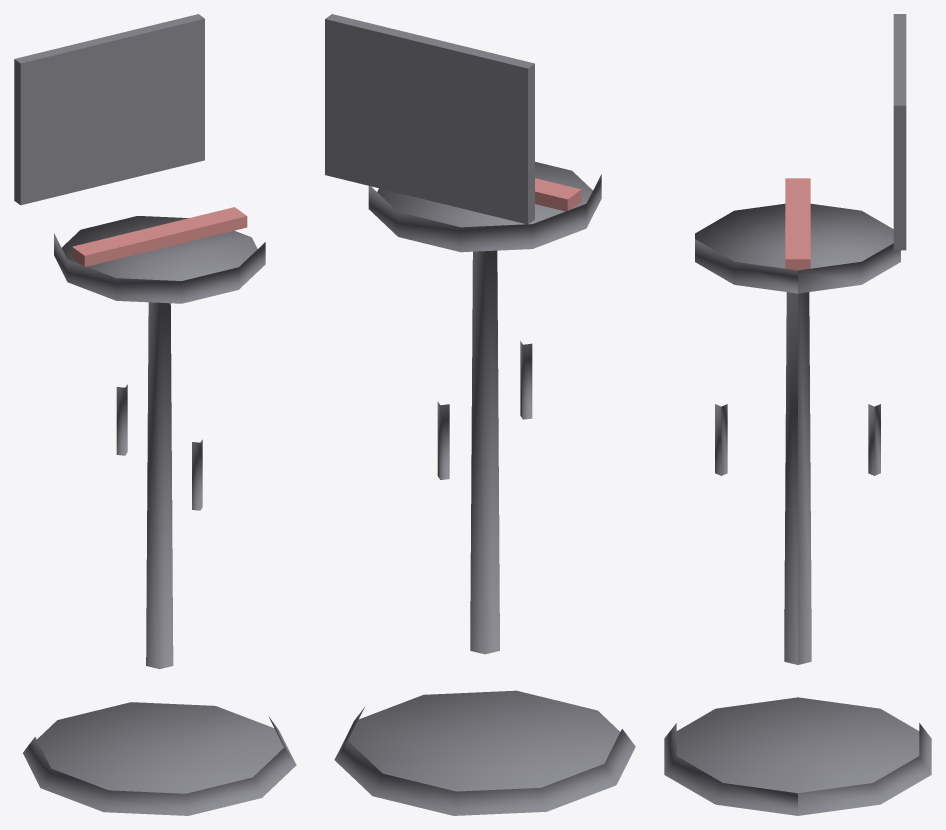
Rendered from bar_chair.glb.
The picture shows the model from 3 angles, left to right: view 1: azimuth 30°, elevation 25°; view 2: azimuth 150°, elevation 25°; view 3: azimuth 270°, elevation 25°; orthographic projection. The views are drawn at different scales.
Parts seen in each view (by area): view 1: back, base, seat, pole, cushion, footrest; view 2: back, base, pole, seat, footrest, cushion; view 3: base, seat, pole, back, cushion, footrest.
Boxes of the visible parts, x1,y1,x2,y2 form: back: [14, 14, 204, 205]; base: [23, 702, 296, 815]; seat: [54, 216, 265, 303]; pole: [146, 302, 173, 669]; cushion: [72, 207, 247, 266]; footrest: [116, 384, 202, 510]; back: [325, 14, 534, 224]; base: [334, 690, 635, 815]; pole: [470, 250, 499, 654]; seat: [368, 161, 601, 252]; footrest: [437, 341, 532, 479]; cushion: [535, 178, 581, 211]; base: [664, 697, 931, 815]; seat: [695, 203, 900, 293]; pole: [784, 292, 811, 664]; back: [893, 14, 906, 250]; cushion: [785, 178, 810, 270]; footrest: [715, 404, 880, 475].
Size of the model in its own units: 0.44 by 1.21 by 0.4185.
